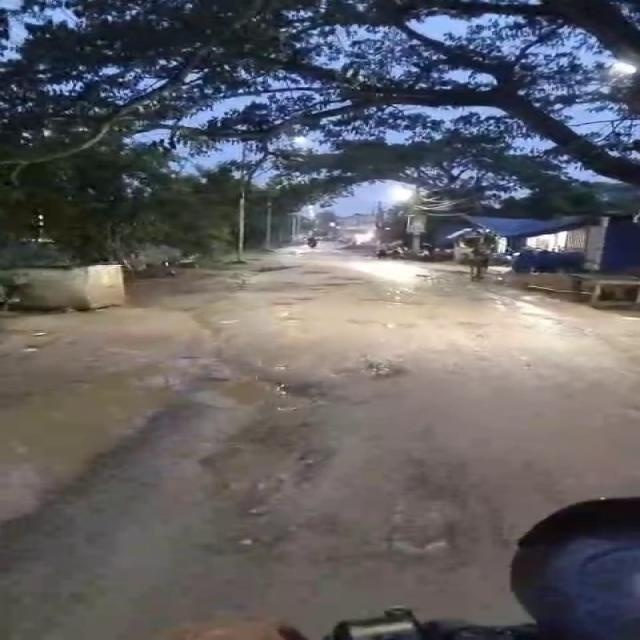pothole: (202, 426, 324, 516), (214, 368, 308, 408), (377, 532, 468, 557), (352, 360, 414, 388), (348, 313, 419, 336), (365, 297, 429, 308), (273, 312, 309, 329), (264, 299, 300, 311)
